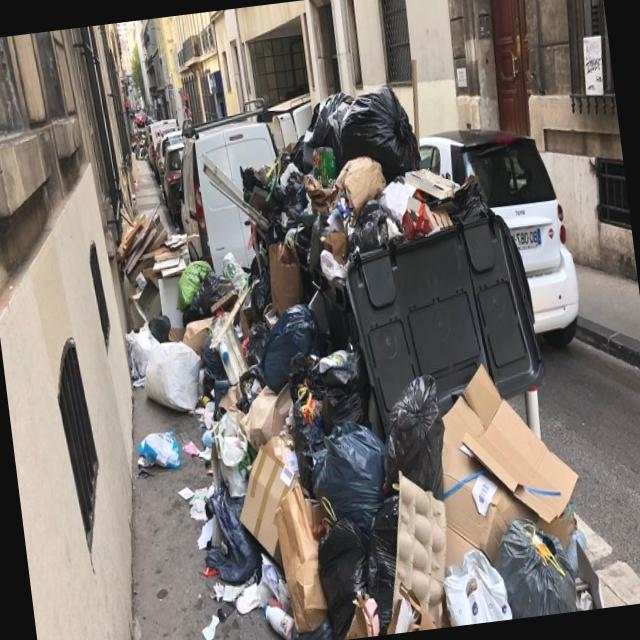garbage: (159, 160, 571, 640)
